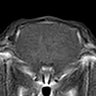Brain: (19, 25, 80, 64)
